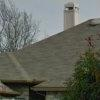Chimney: (56, 2, 87, 32)
